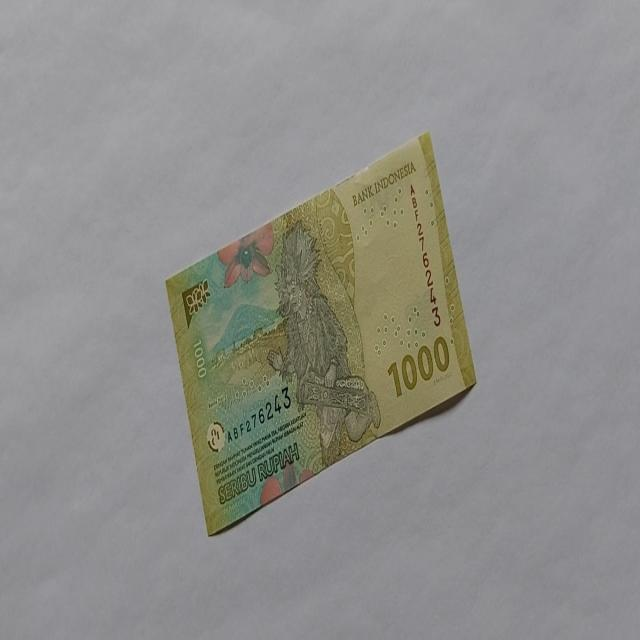seribu rupiah kertas: (164, 130, 477, 536)
